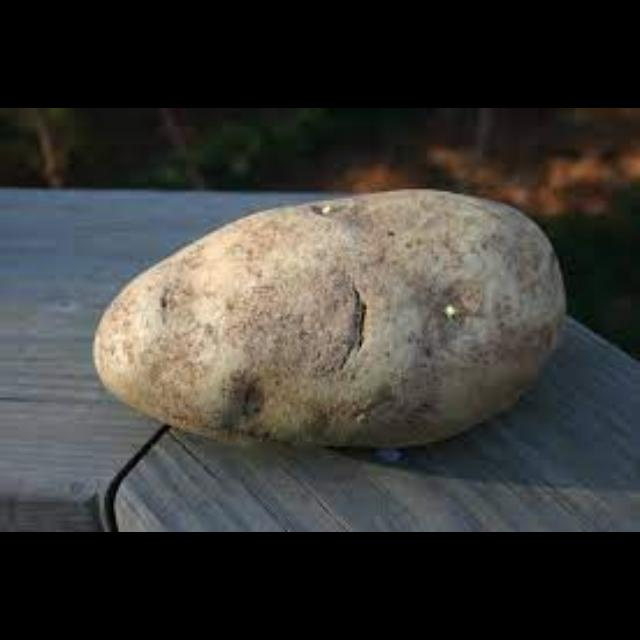Damaged potato: (90, 184, 580, 453)
